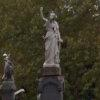Statue: (31, 0, 82, 84)
